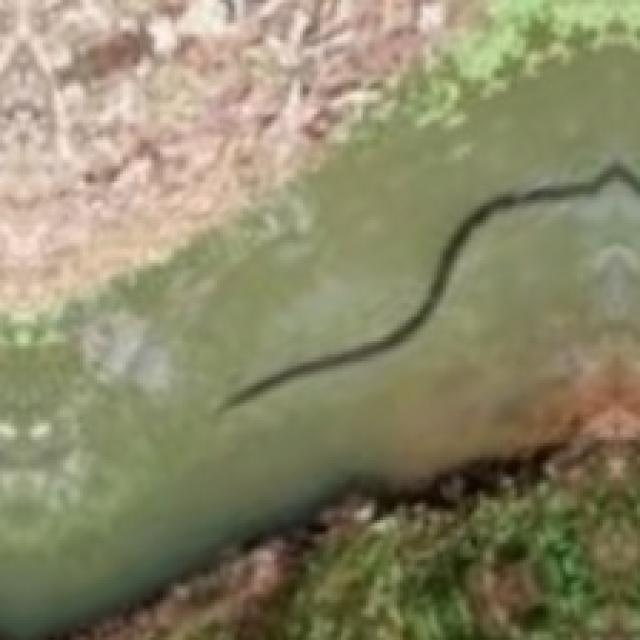king cobra: (0, 0, 637, 637), (217, 160, 637, 411)
